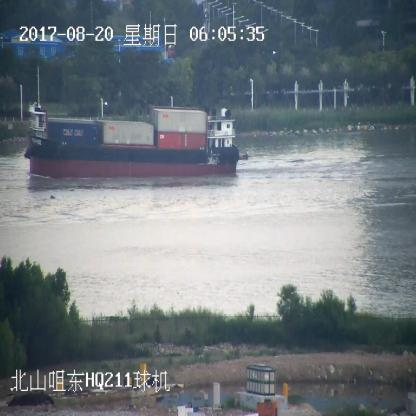Container Ship: (24, 68, 238, 178)
